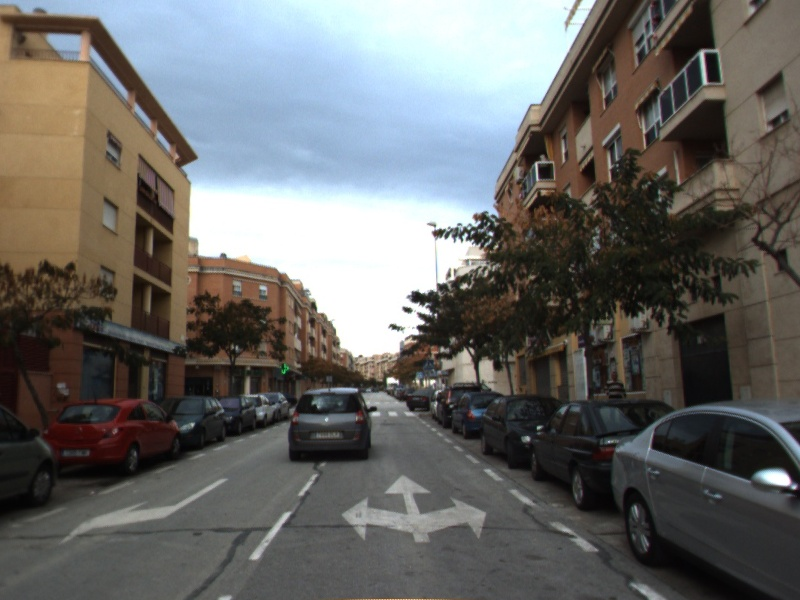STRAIGHT_LEFT_RIGHT: (339, 472, 489, 544)
